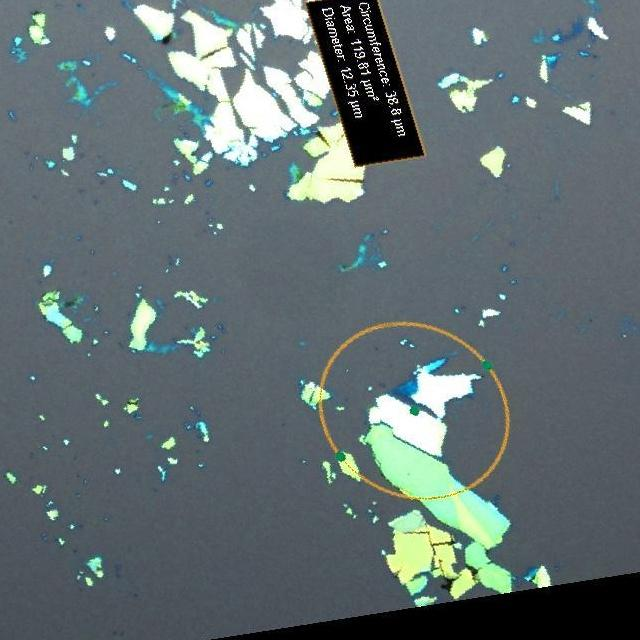monolayer-eWW4: (395, 392, 435, 416)
